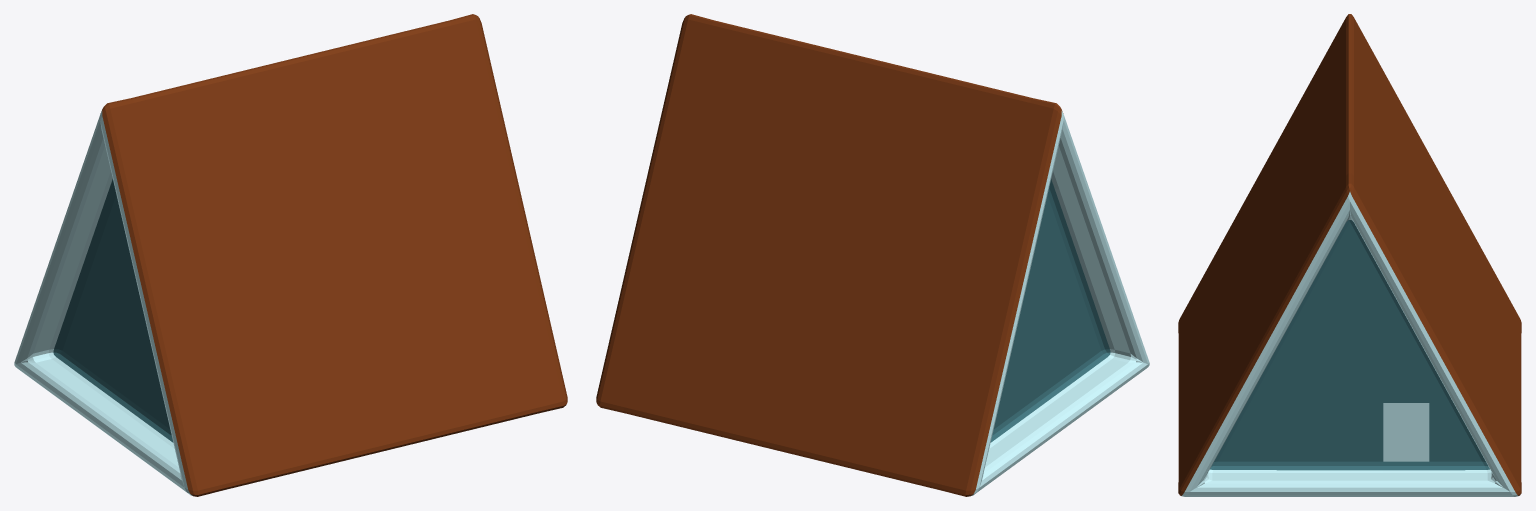
Rendered from Casa.fbx.
3 views of the same model, side by side, from view 1: azimuth 30°, elevation 25°; view 2: azimuth 150°, elevation 25°; view 3: azimuth 270°, elevation 25° (orthographic). The views are drawn at different scales.
Visible parts, largest first — view 1: Casa; view 2: Casa; view 3: Casa.
Part boxes in pixels (x1,y1,x2,y2): Casa: (14, 14, 567, 496); Casa: (596, 14, 1149, 496); Casa: (1178, 14, 1521, 496).
Size of the model in its own units: 240 by 198 by 197.
